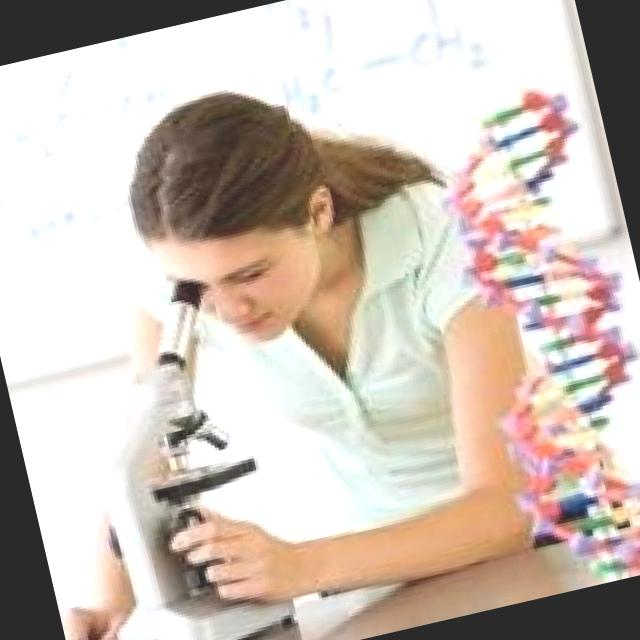no_vest: (232, 283, 530, 535)
